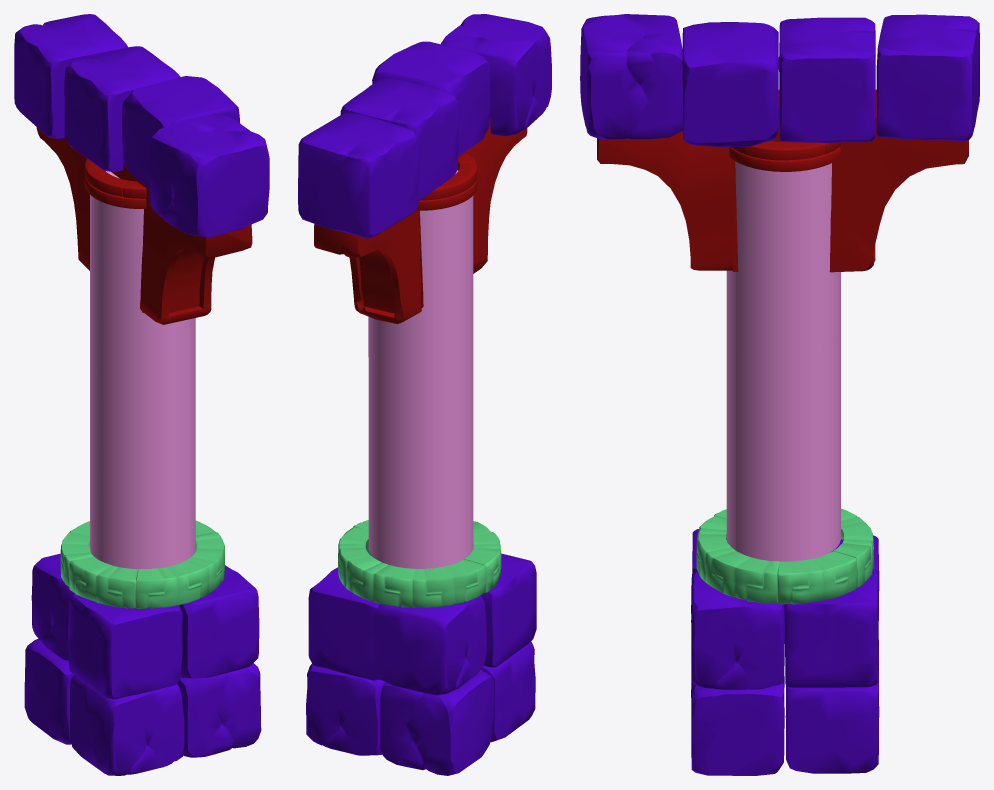
The model's file is column02.fbx.
3 views of the same model, side by side, from view 1: azimuth 30°, elevation 25°; view 2: azimuth 150°, elevation 25°; view 3: azimuth 270°, elevation 25° (orthographic). The views are drawn at different scales.
Parts seen in each view (by area): view 1: column02; view 2: column02; view 3: column02.
Part boxes in pixels (bbox=[...]): column02: bbox=[14, 14, 269, 775]; column02: bbox=[298, 14, 551, 775]; column02: bbox=[580, 14, 979, 775].
Bounding box in the file's own units: 2.74 × 11.03 × 5.68.
